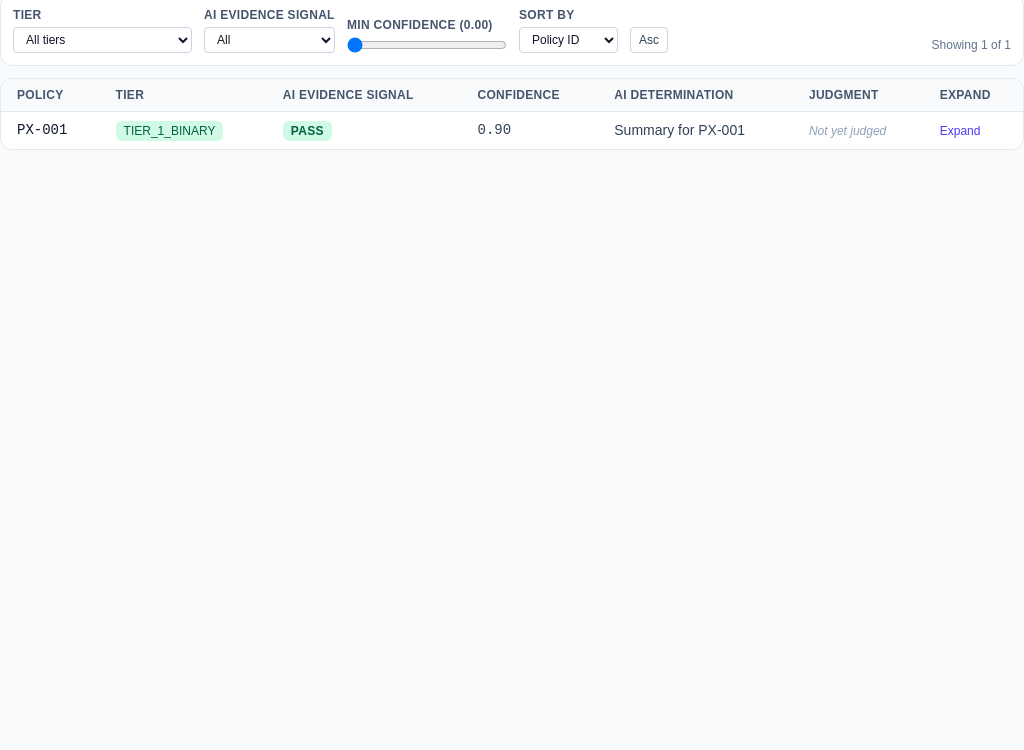
Test: PerPolicyResultsTable AI Determination + policy text + tech disclosure › hides Stage / Packet line by default; reveals it via disclosure toggle
Click the button with test id "per-policy-expand-toggle": (960, 131) left=940, top=123, right=980, bottom=139
(page scrolled)
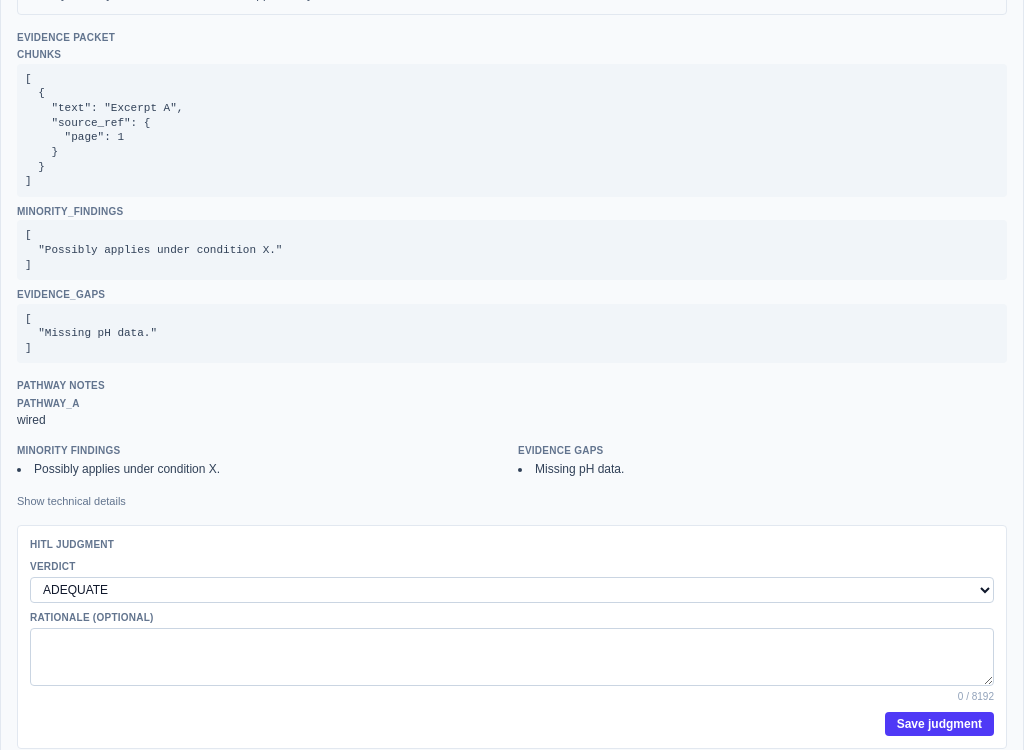
Click the button with test id "per-policy-tech-details-toggle": (71, 502) left=17, top=494, right=126, bottom=509
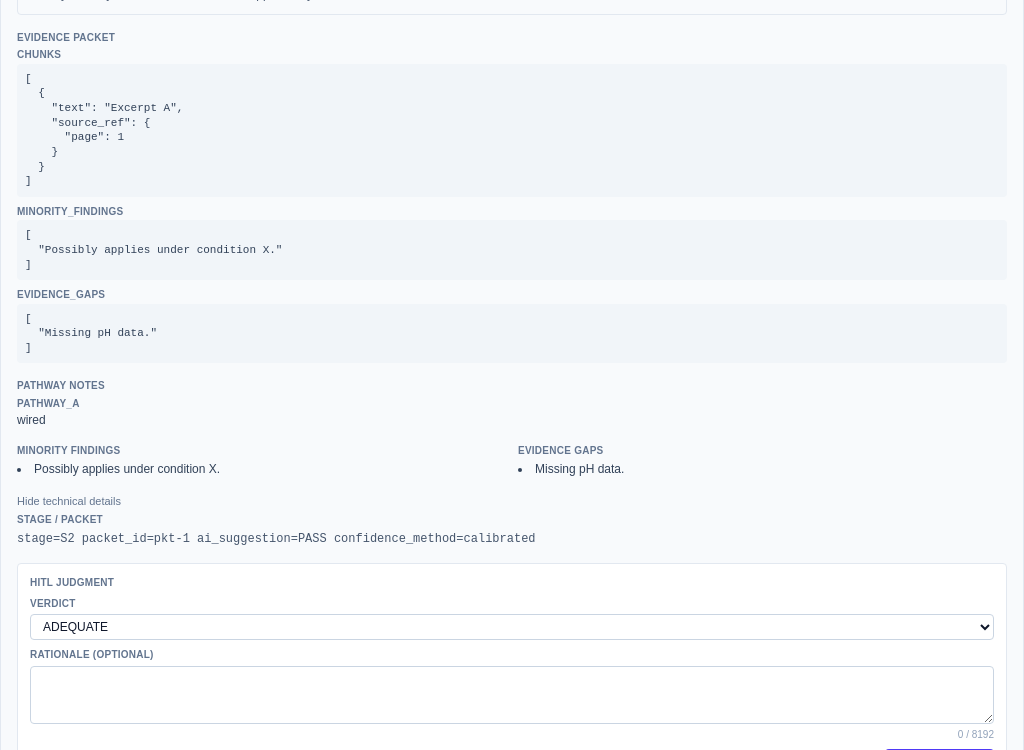
Result: the text with test id "per-policy-stage-info" is shown at left=17, top=532, right=536, bottom=546
Click the button with test id "per-policy-tech-details-toggle": (69, 502) left=17, top=494, right=121, bottom=509
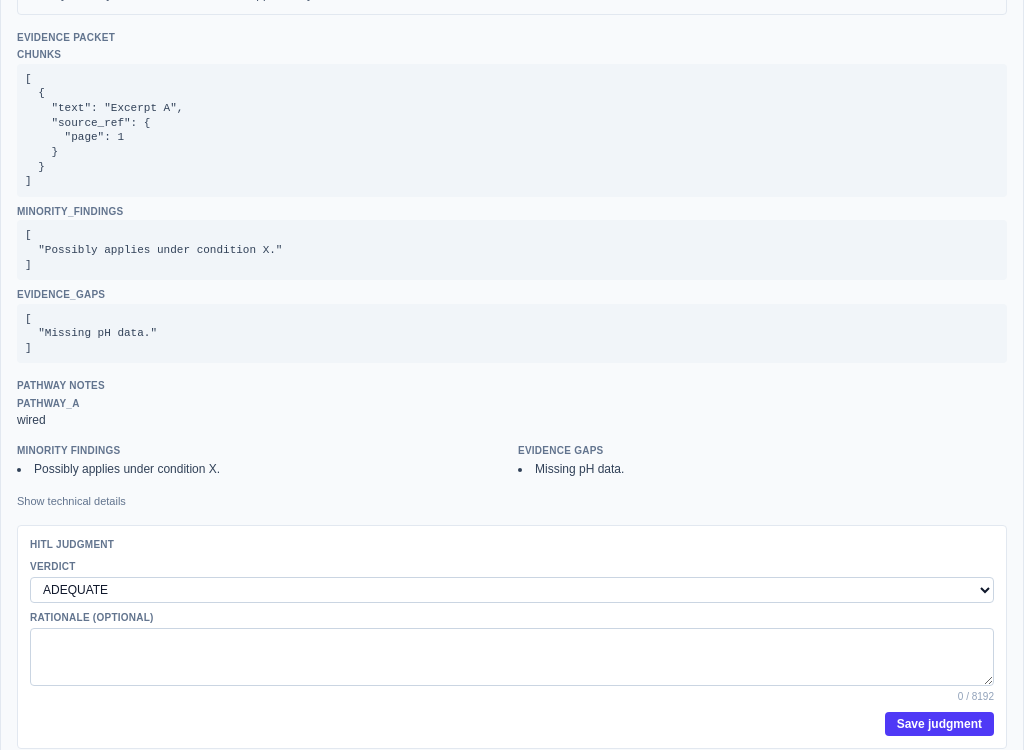
Result: the text with test id "per-policy-stage-info" is gone
